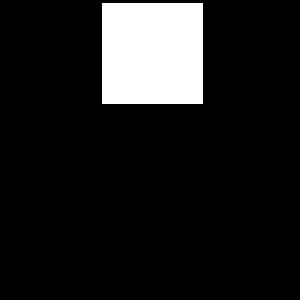circle: (102, 3, 203, 104)
